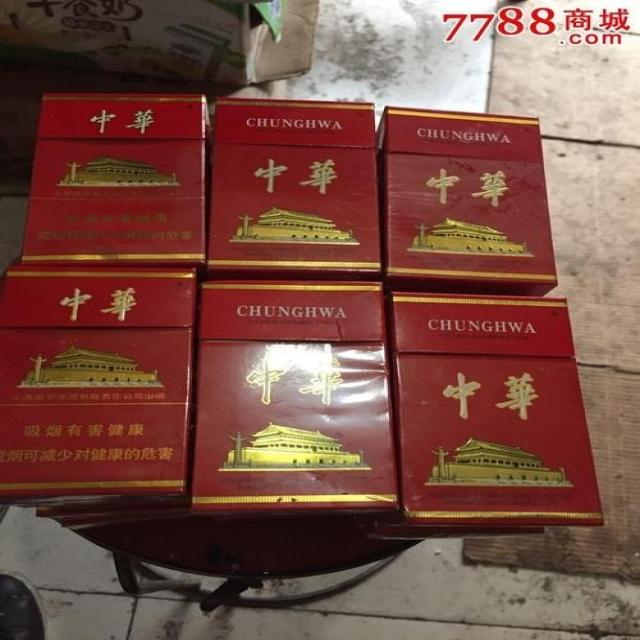box: (387, 291, 607, 526), (189, 281, 401, 512), (0, 265, 197, 503), (375, 106, 559, 296), (20, 92, 211, 267), (202, 96, 381, 281)
